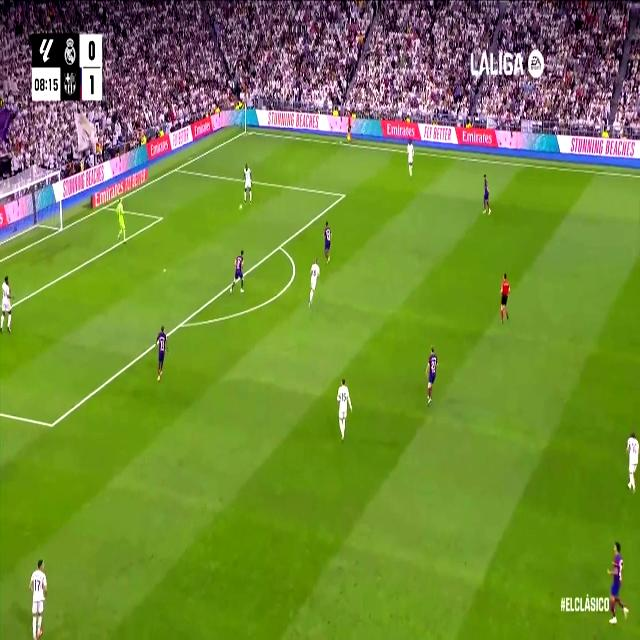bigarea_bottom_inner: (47, 413, 57, 436)
bigarea_top_inner: (340, 188, 346, 201)
bigarea_top_outter: (174, 164, 178, 174)
bottom_arc_area_intersection: (178, 316, 185, 332)
corner: (242, 126, 249, 135)
smallarea_top_inner: (158, 212, 162, 224)
top_arc_area_intersection: (276, 238, 284, 254)
